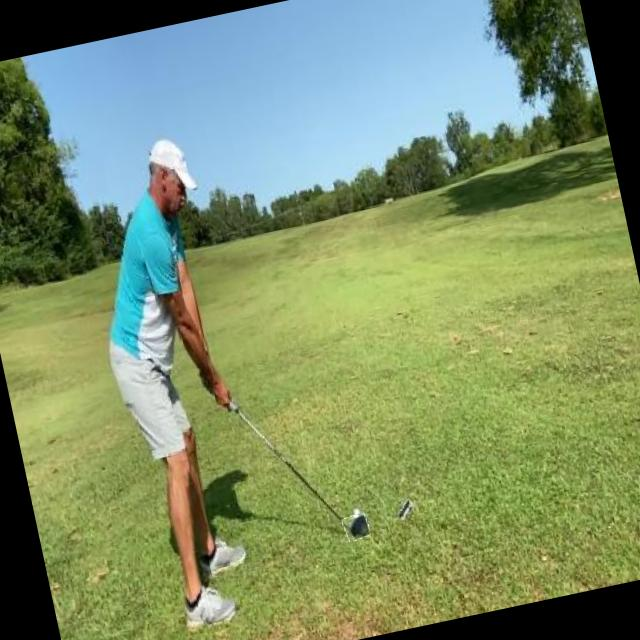club head: (342, 512, 371, 542)
